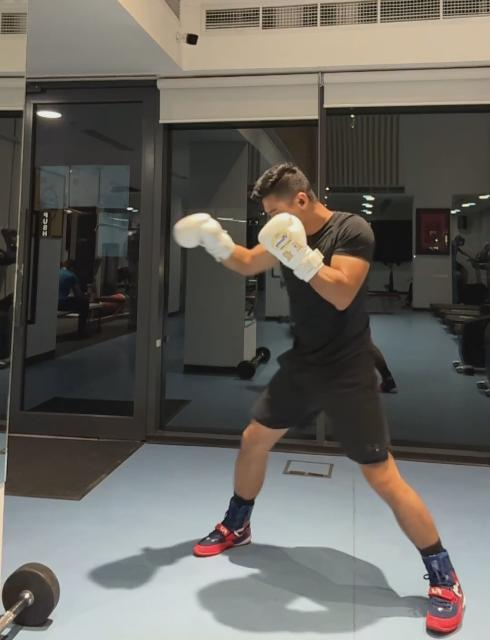punch: (164, 159, 466, 639)
